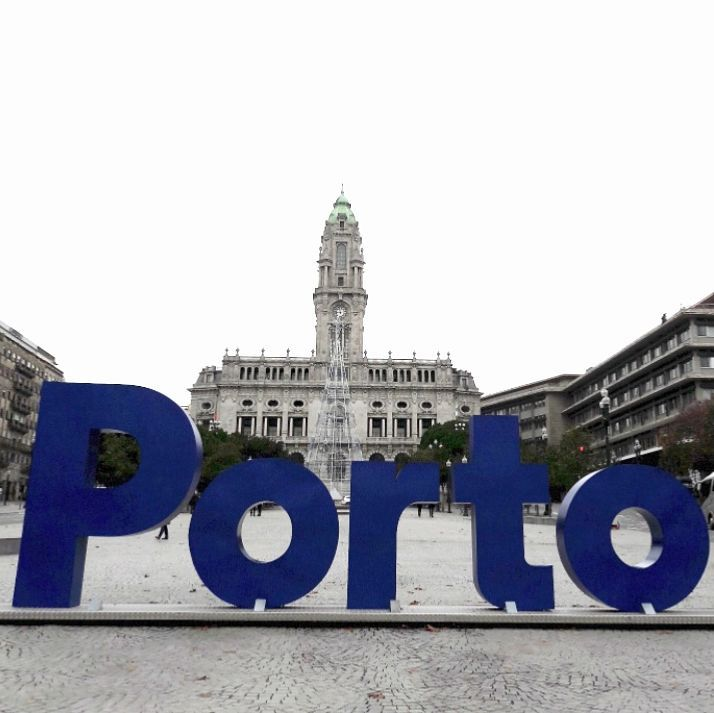camara: (186, 184, 486, 483)
